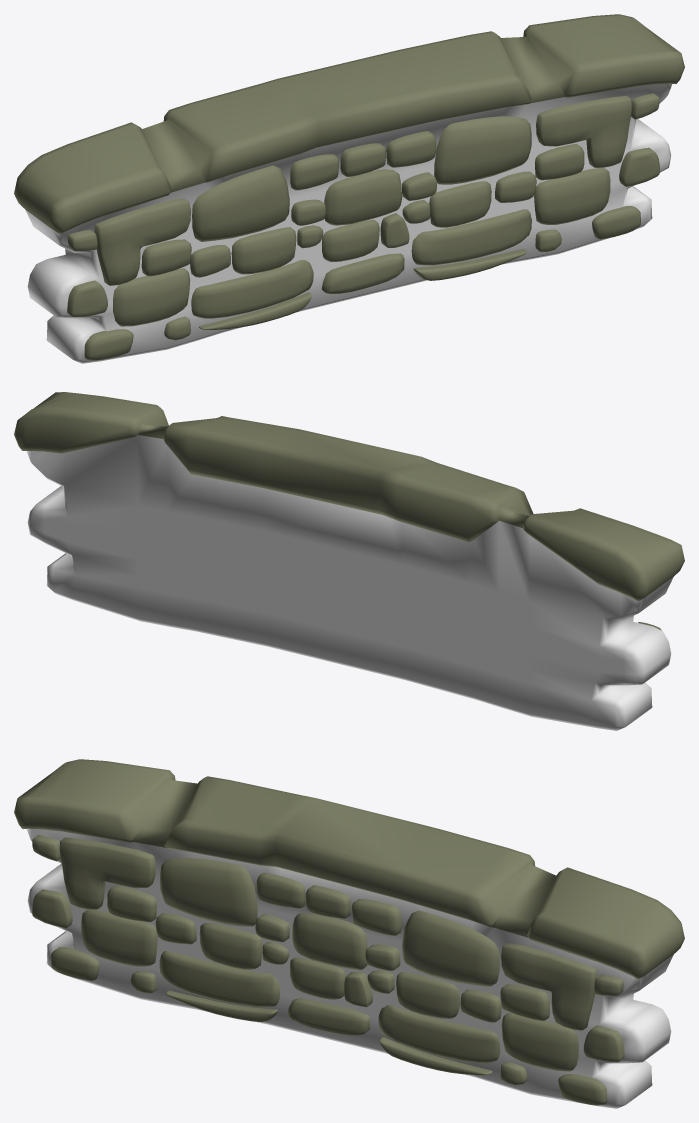
The model's file is Wall.fbx.
3 views of the same model, one above another, from view 1: azimuth 30°, elevation 25°; view 2: azimuth 150°, elevation 25°; view 3: azimuth 330°, elevation 25° (orthographic).
Visible parts, largest first — view 1: Wall.001; view 2: Wall.001; view 3: Wall.001.
Part boxes in pixels (box(x1,y1,x2,y2)): Wall.001: box(14, 14, 684, 363); Wall.001: box(14, 392, 684, 730); Wall.001: box(14, 759, 684, 1108).
Size of the model in its own units: 261 by 84.16 by 31.45.
